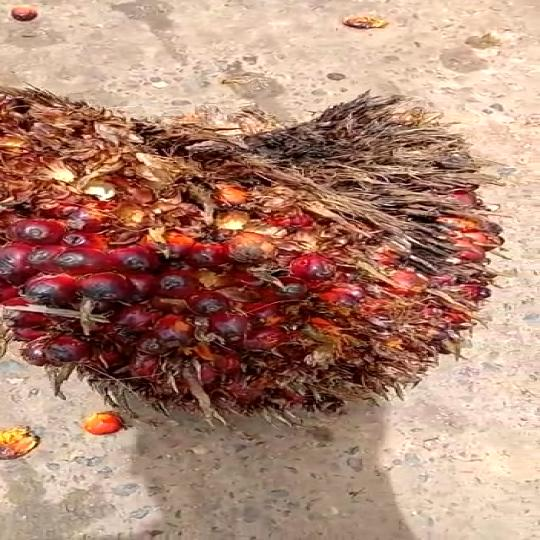masak: (0, 74, 497, 409)
